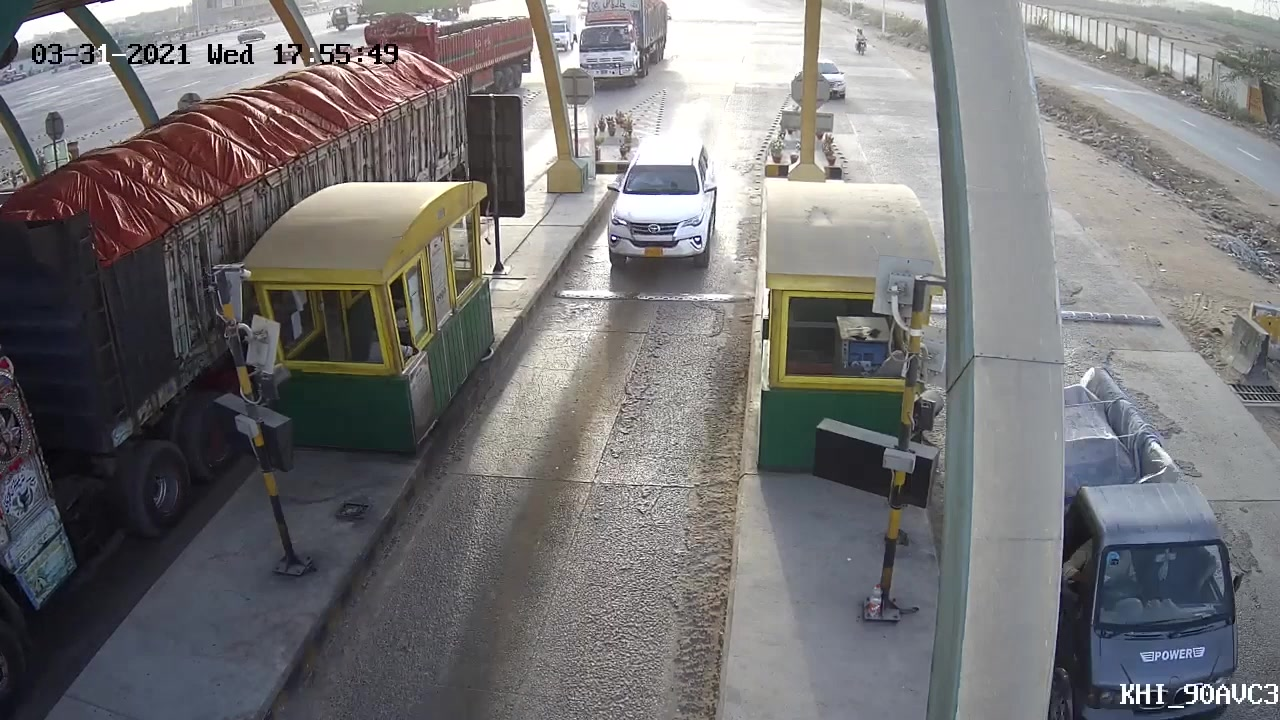F1: (581, 129, 730, 264)
